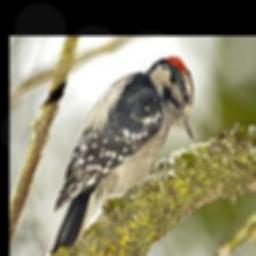Woodpecker: (37, 52, 194, 256)
